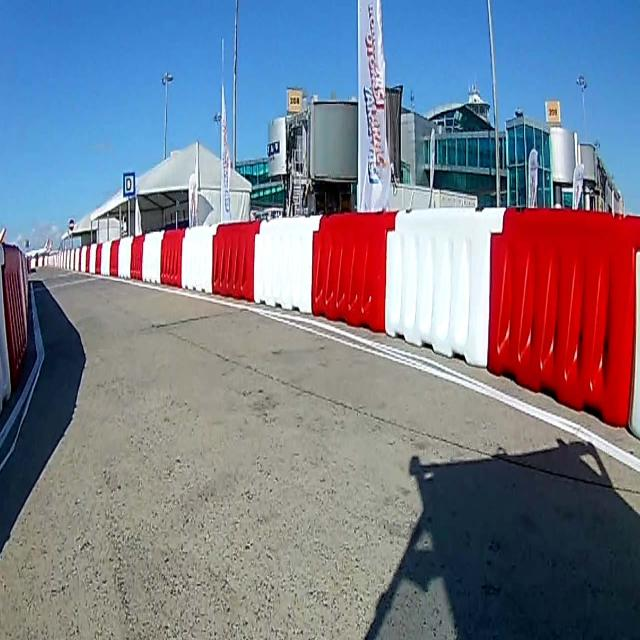durak: (122, 171, 136, 196)
